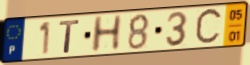1: (38, 20, 51, 56)
3: (165, 10, 191, 48)
8: (126, 13, 151, 51)
C: (193, 6, 225, 49)
H: (89, 14, 124, 55)
T: (58, 19, 81, 55)
